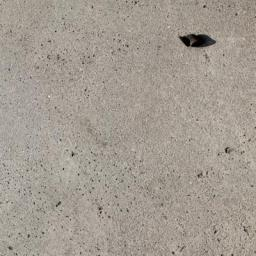FOD: (177, 31, 218, 52)
